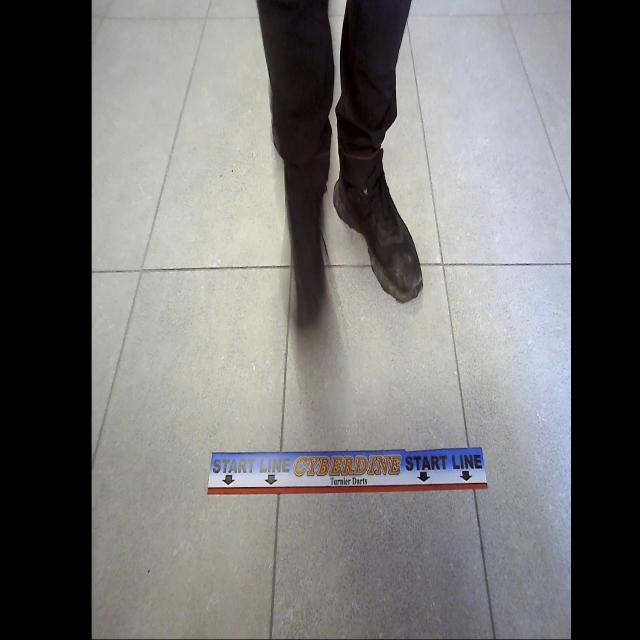foot: (333, 152, 423, 303), (284, 163, 326, 326)
